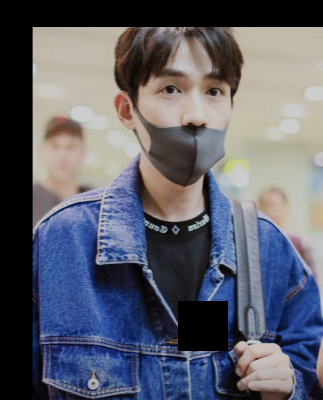mask_weared_incorrect: (133, 64, 233, 186)
without_mask: (45, 138, 81, 179)
